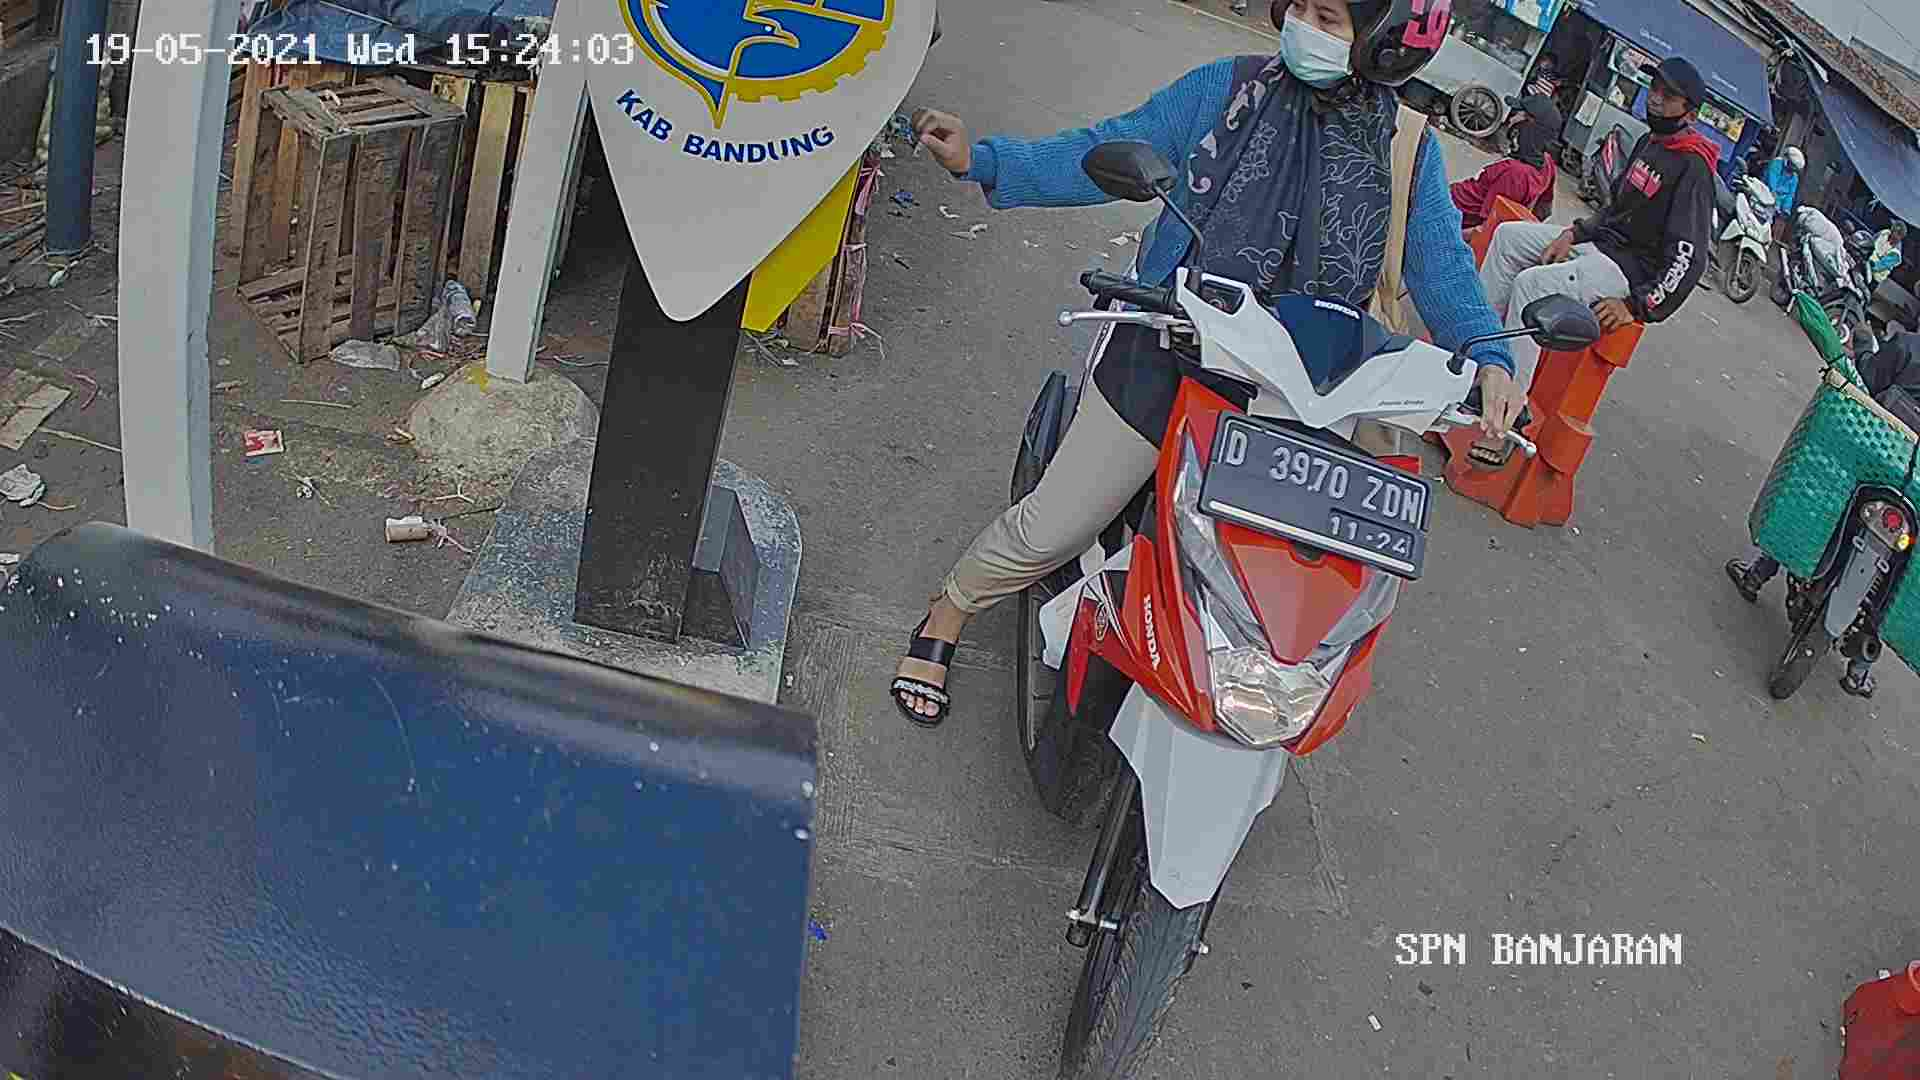motor: (1001, 278, 1447, 1067)
